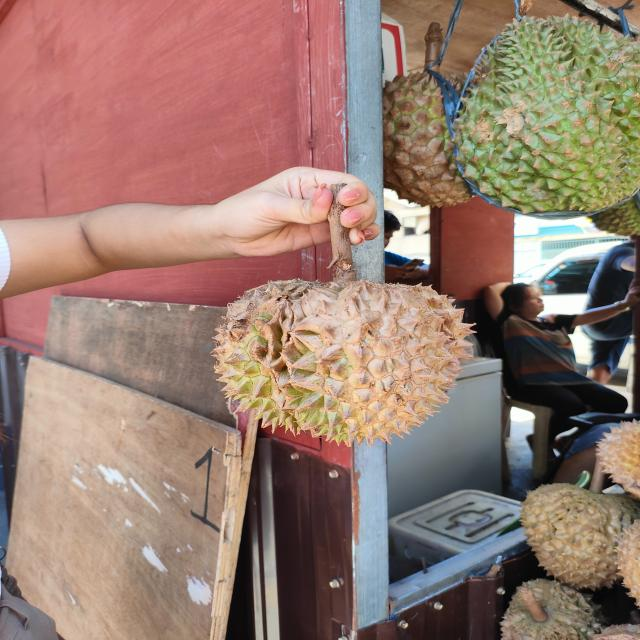mature: (210, 278, 478, 447)
